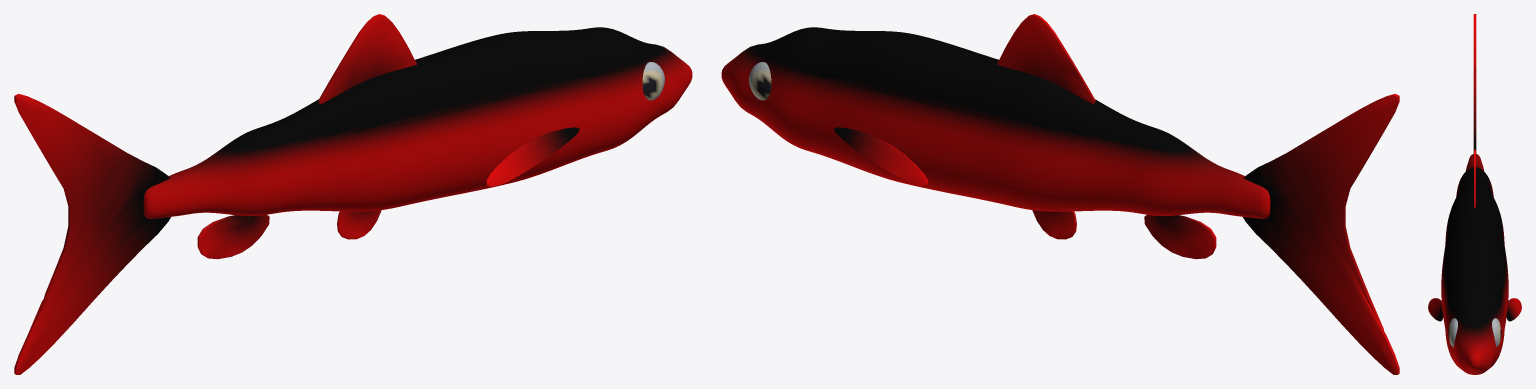
Rendered from sardine.glb.
3 views of the same model, side by side, from view 1: azimuth 30°, elevation 25°; view 2: azimuth 150°, elevation 25°; view 3: azimuth 270°, elevation 25° (orthographic). The views are drawn at different scales.
Parts seen in each view (by area): view 1: Sardine, SardineEyes; view 2: Sardine, SardineEyes; view 3: Sardine, SardineEyes.
Boxes of the visible parts, x1=… form: Sardine: x1=14, y1=14, x2=692, y2=374; SardineEyes: x1=642, y1=62, x2=664, y2=100; Sardine: x1=721, y1=14, x2=1399, y2=374; SardineEyes: x1=749, y1=62, x2=771, y2=100; Sardine: x1=1428, y1=14, x2=1521, y2=374; SardineEyes: x1=1448, y1=318, x2=1501, y2=347.
Bounding box in the file's own units: 1.98 × 0.7825 × 0.3207.
